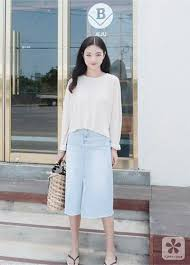people: (53, 36, 125, 265)
